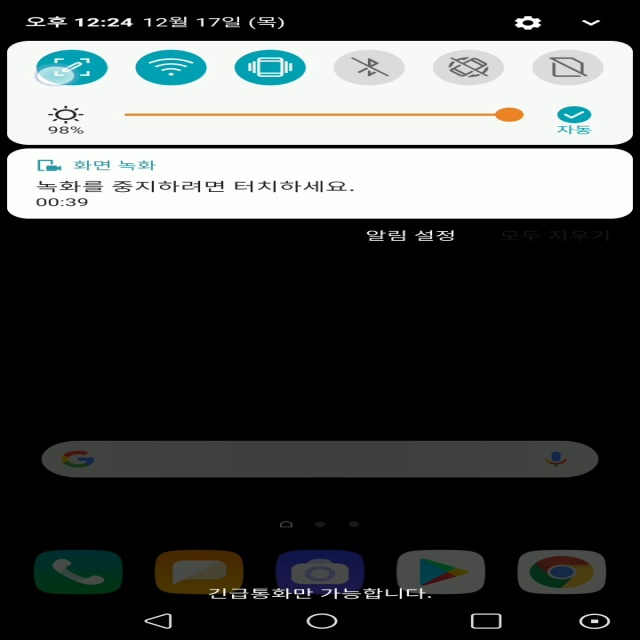Cursor: (33, 65, 78, 88)
